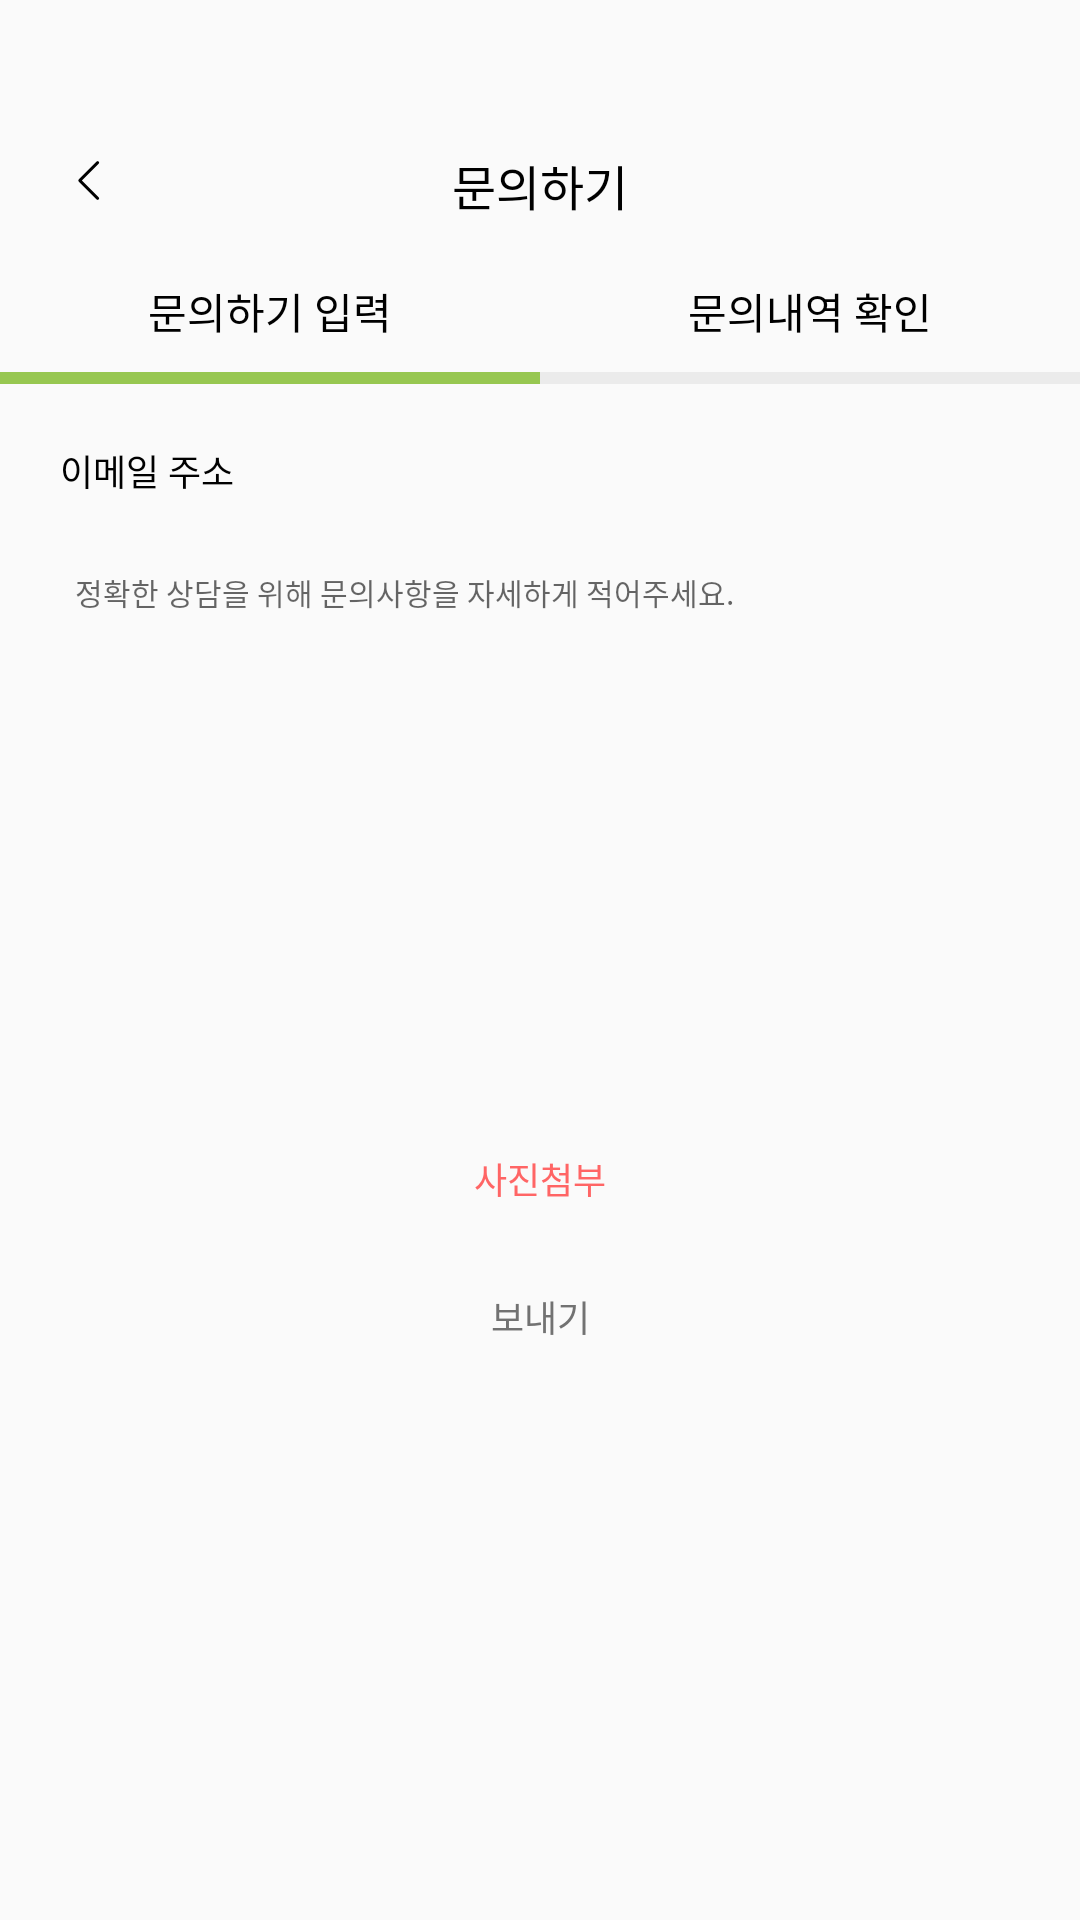

Locate icon controls on the screen. Image size 1080px×1920px, boxes as (x1, y1, x2, y2).
backbutton: (78, 161, 99, 200)
